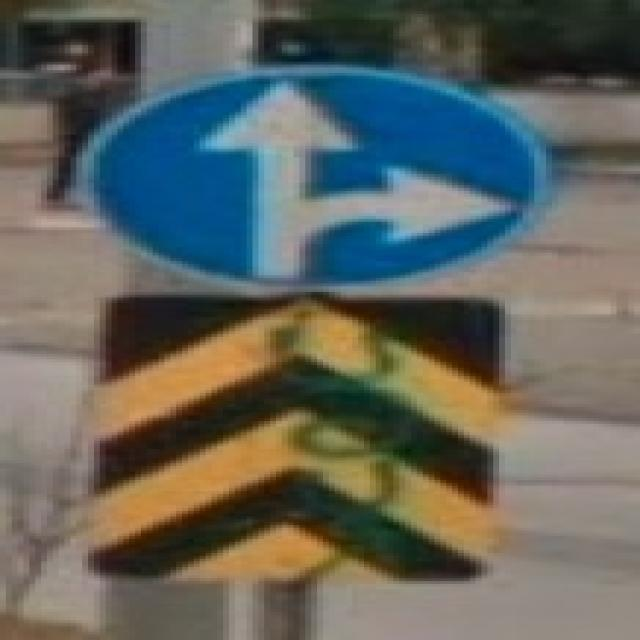Straight or Right: (83, 67, 541, 291)
